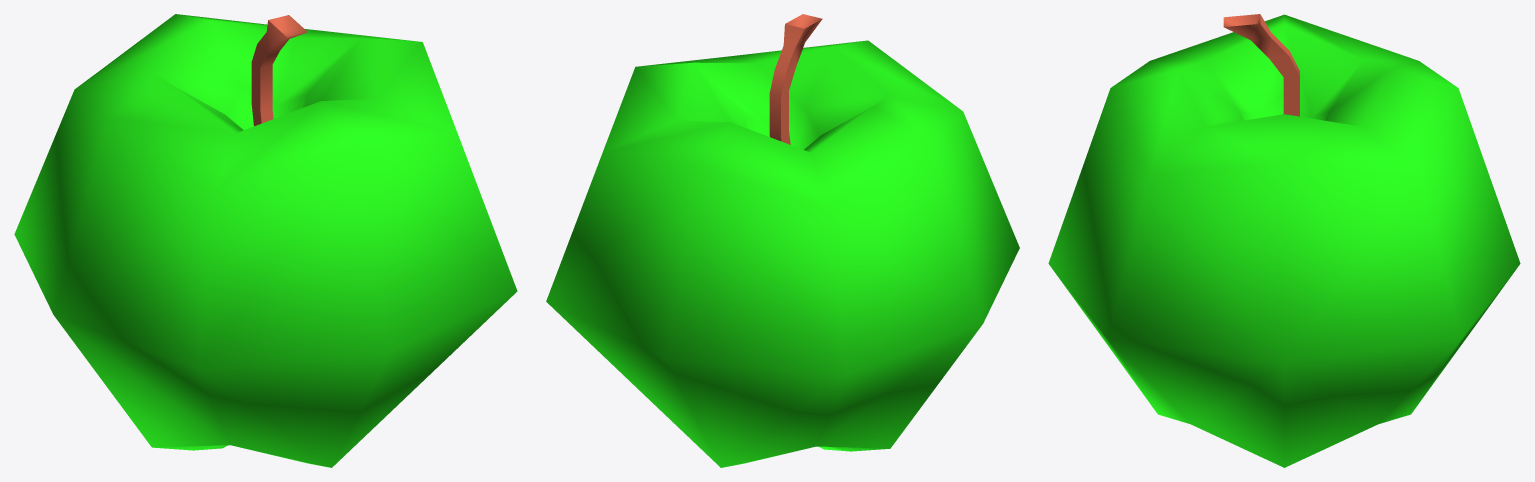
File: green_apple.gltf
3 views of the same model, side by side, from view 1: azimuth 30°, elevation 25°; view 2: azimuth 150°, elevation 25°; view 3: azimuth 270°, elevation 25° (orthographic). The views are drawn at different scales.
Visible parts, largest first — view 1: Subdivision_Surface_2, Cube; view 2: Subdivision_Surface_2, Cube; view 3: Subdivision_Surface_2, Cube.
Part boxes in pixels (x1,y1,x2,y2): Subdivision_Surface_2: (14, 14, 517, 467); Cube: (251, 15, 307, 126); Subdivision_Surface_2: (546, 40, 1019, 467); Cube: (769, 14, 822, 144); Subdivision_Surface_2: (1048, 14, 1520, 467); Cube: (1223, 14, 1299, 116).
Size of the model in its own units: 2.8 by 2.7 by 2.8.
